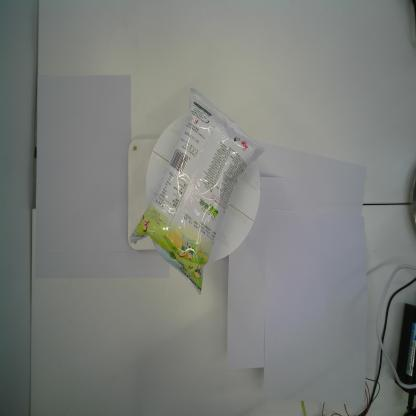Puffed Food: (127, 82, 268, 298)
